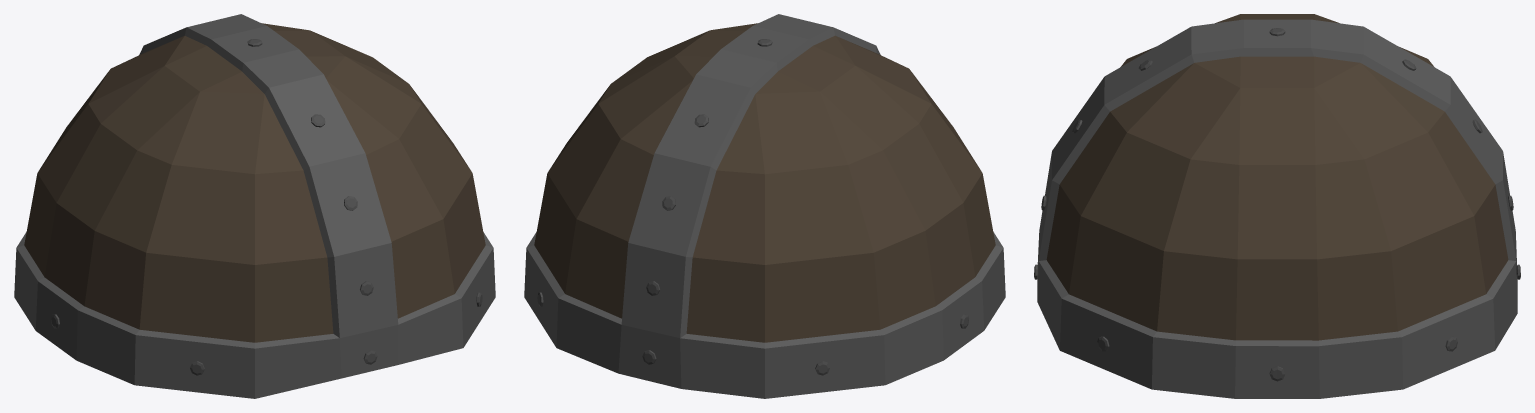
File: newHat4.fbx
The picture shows the model from 3 angles, left to right: view 1: azimuth 30°, elevation 25°; view 2: azimuth 150°, elevation 25°; view 3: azimuth 270°, elevation 25°; orthographic projection. The views are drawn at different scales.
Visible parts, largest first — view 1: Helmet; view 2: Helmet; view 3: Helmet.
Part boxes in pixels (x1,y1,x2,y2): Helmet: (14, 14, 495, 398); Helmet: (524, 14, 1005, 398); Helmet: (1034, 14, 1520, 398).
Size of the model in its own units: 28.38 by 17.49 by 28.47.
